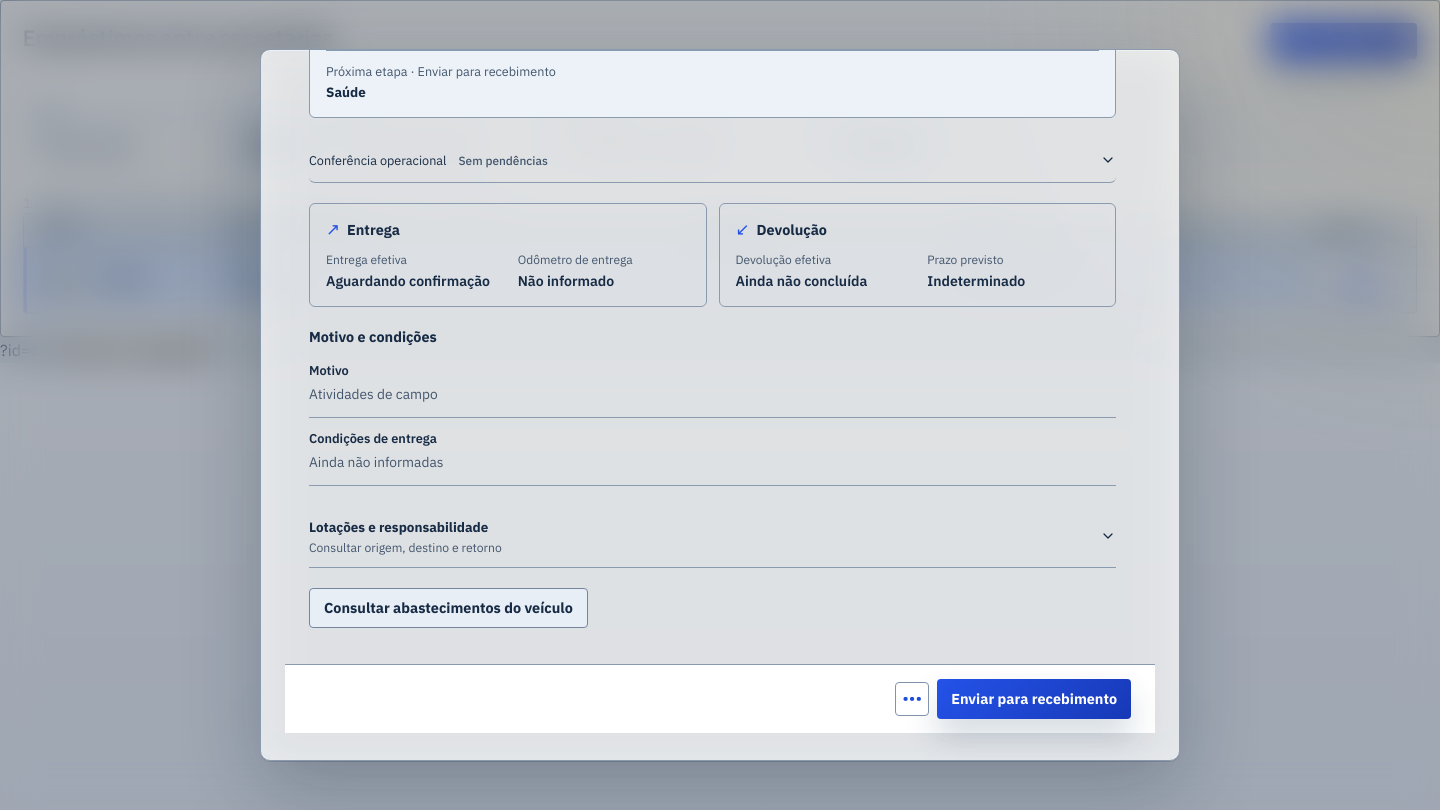
Test case: abre a edição sobre o painel e Escape fecha somente o formulário
The width and height of the screenshot is (1440, 810).
(page scrolled)
Click the button named "Mais ações do empréstimo de ABC1234".
click(912, 699)  # box left=895, top=682, right=929, bottom=716
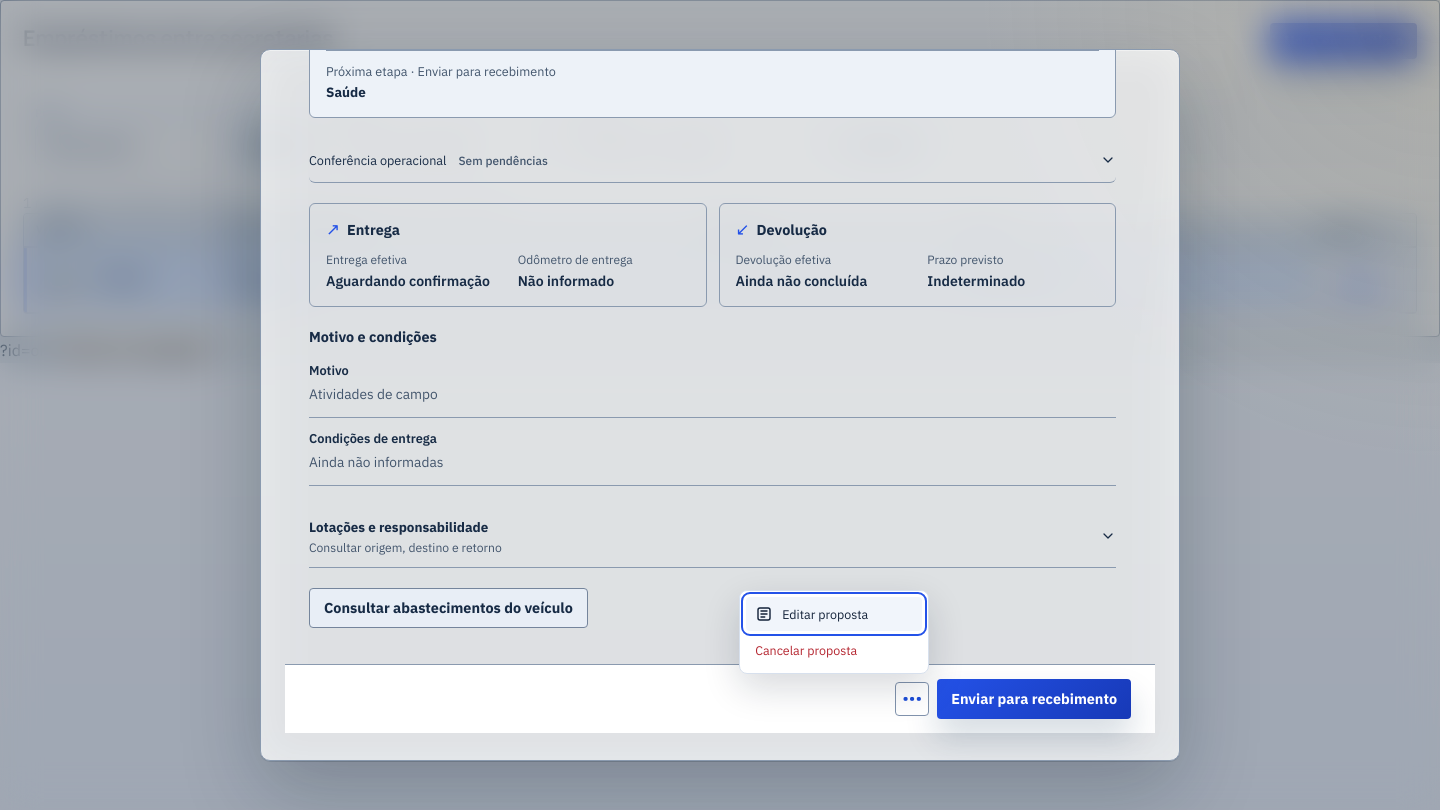
Click the menu item "Editar proposta".
click(834, 614)  # box left=746, top=597, right=922, bottom=631
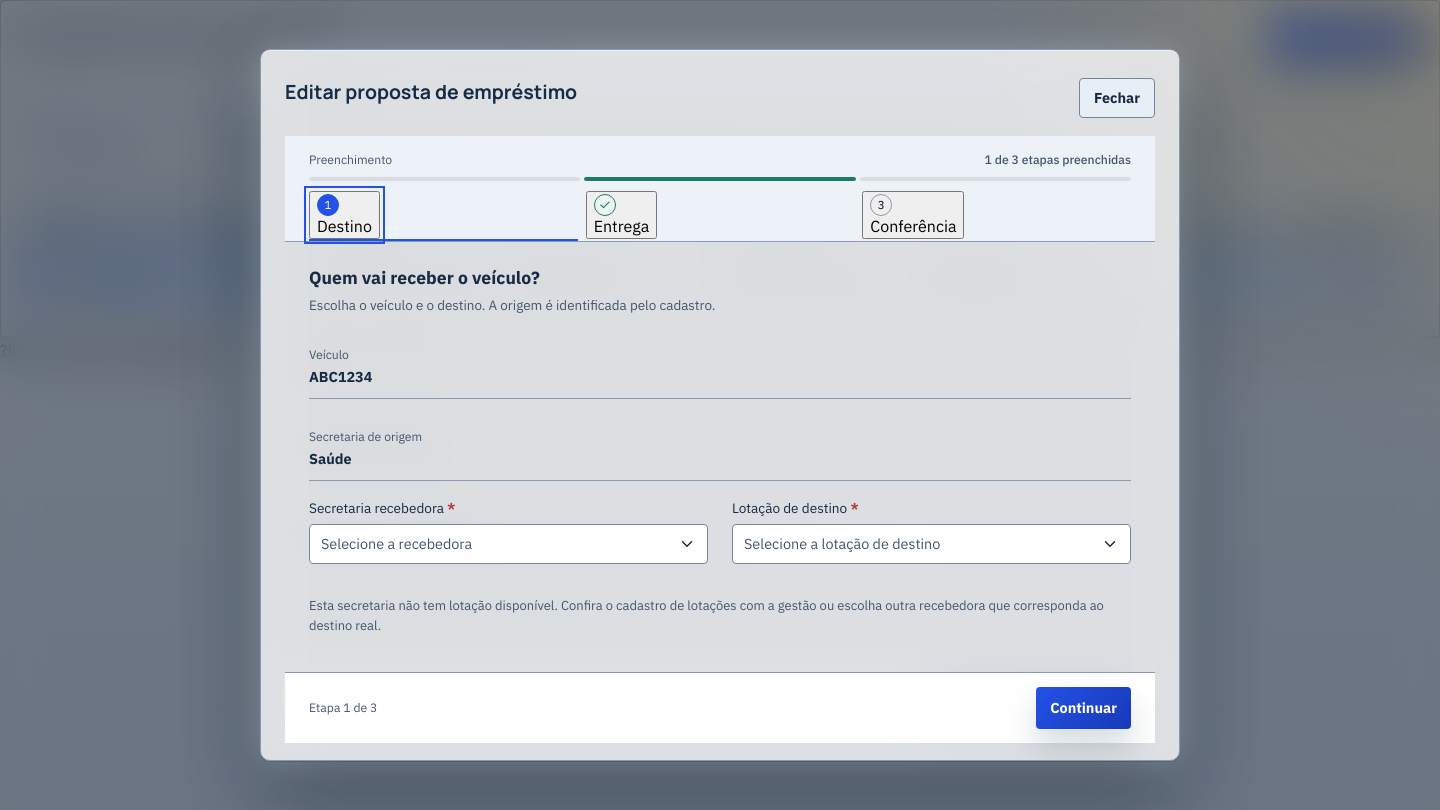
Expected: the number of dialogs is 2, left=260, top=49, right=1180, bottom=761; left=260, top=49, right=1180, bottom=761
Press Escape
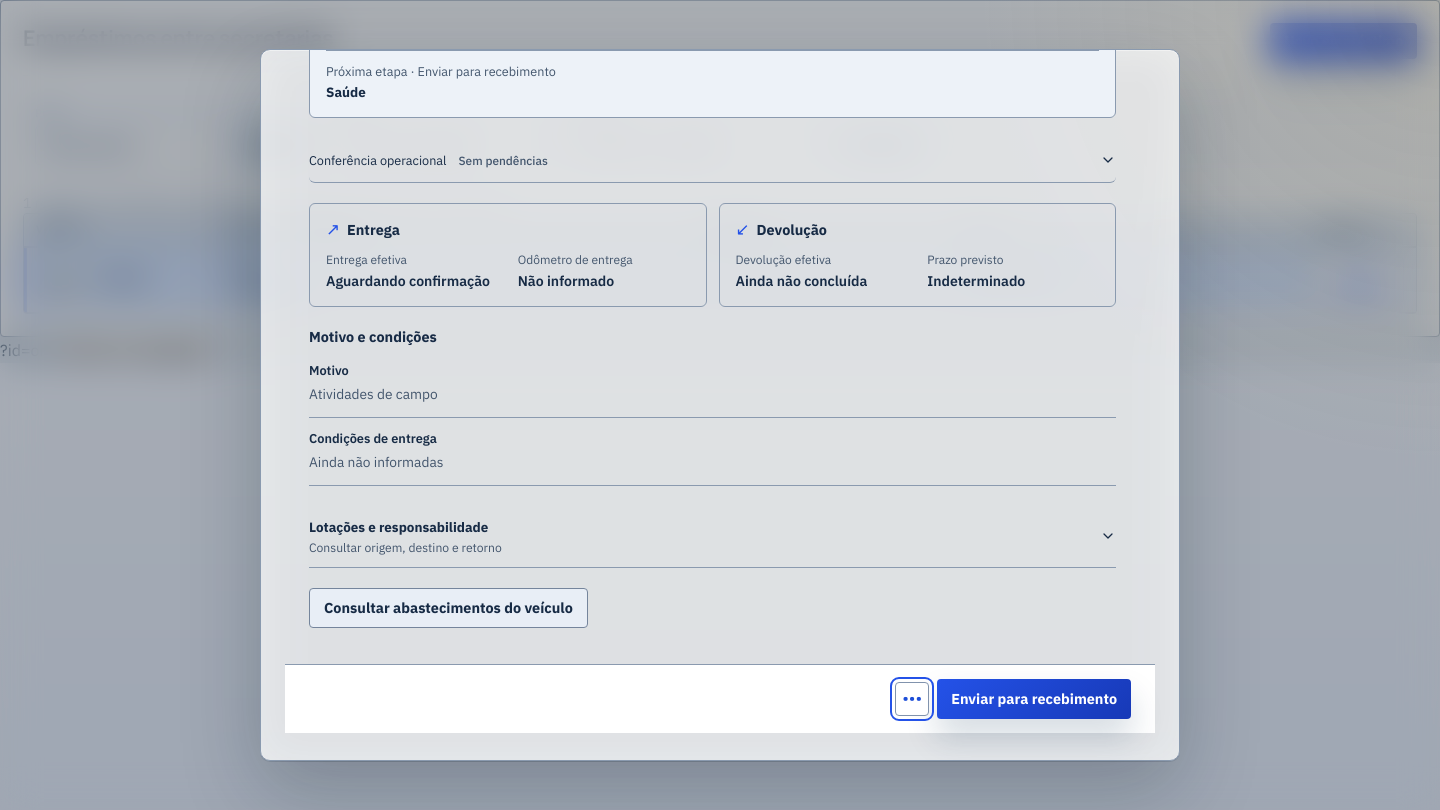
Expected: the text named "URL atual" shows "id=one", left=0, top=340, right=57, bottom=360
Expected: the number of dialogs is 1, left=260, top=49, right=1180, bottom=761
